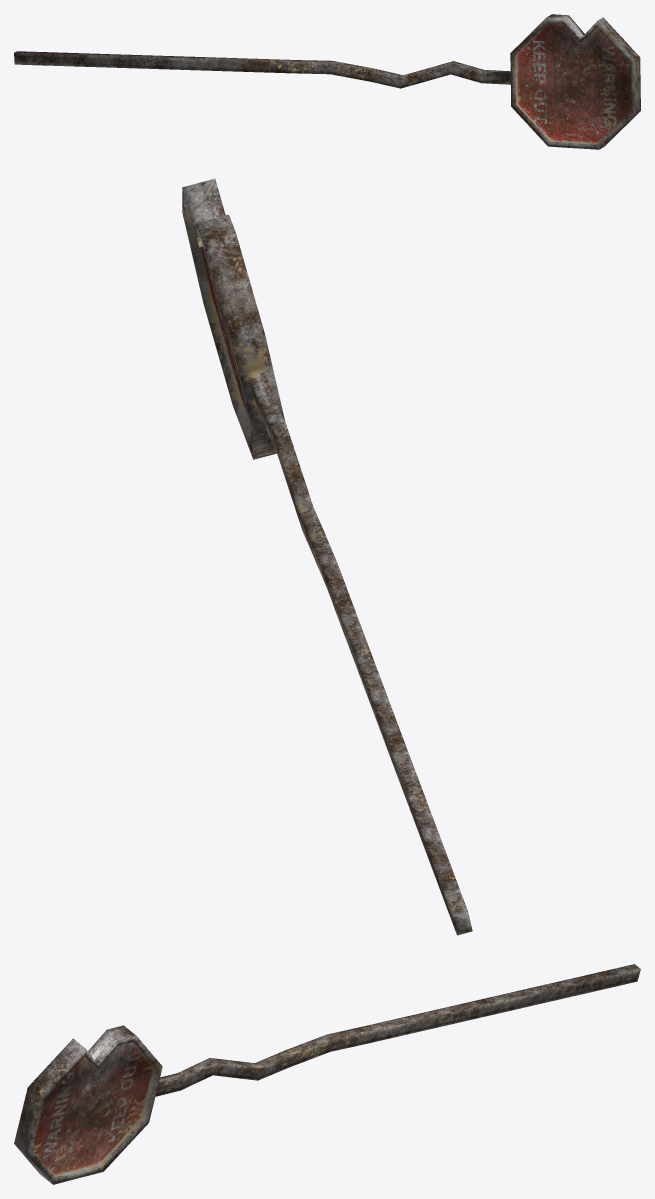
The model's file is Anim_idle_senyal_objetos.0044.obj.
The picture shows the model from 3 angles, top to bottom: view 1: azimuth 30°, elevation 25°; view 2: azimuth 150°, elevation 25°; view 3: azimuth 270°, elevation 25°; orthographic projection. The views are drawn at different scales.
Bounding box in the file's own units: 8.42 × 2.61 × 9.66.
